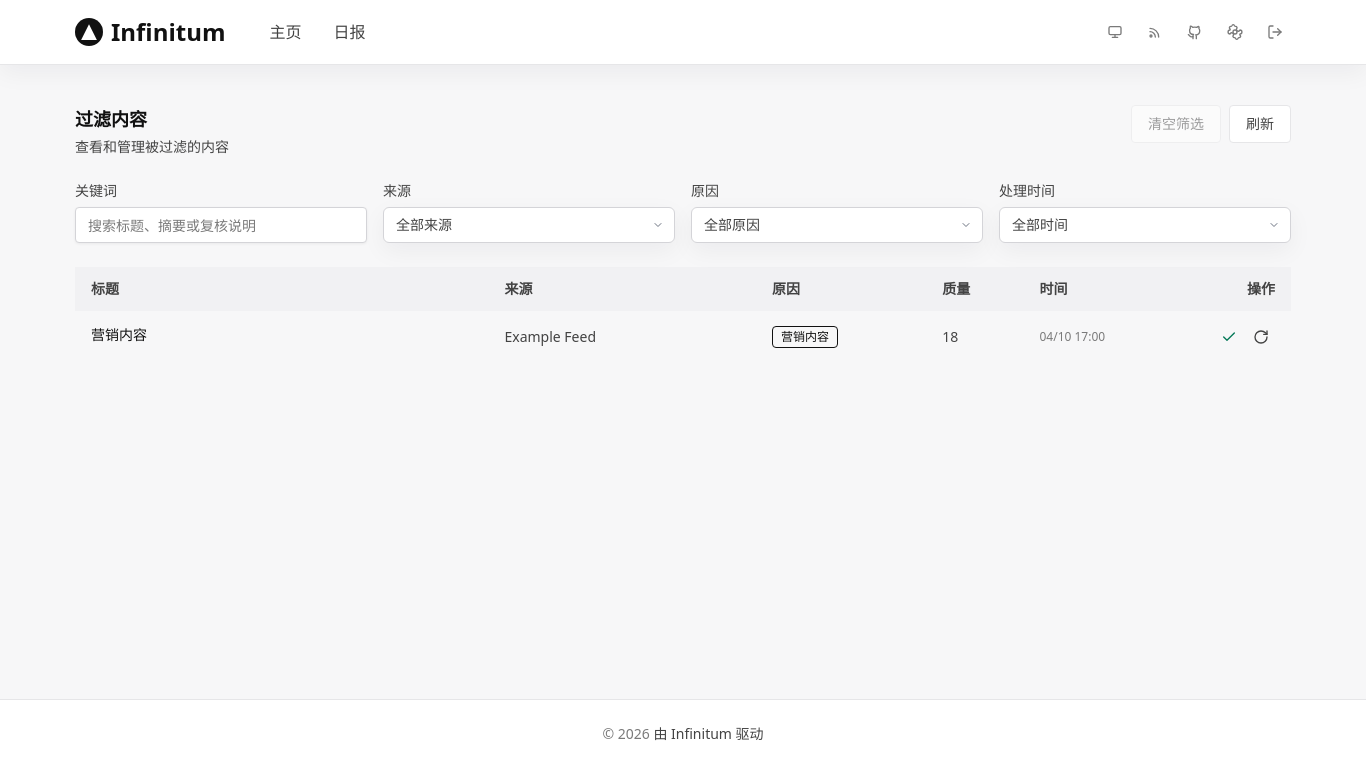
it: ContentReviewPanel › queues reanalyze as a background task
This screenshot has width=1366, height=768.
Check: the button "营销内容" is shown, box [91,324,472,344]
Click the button titled "重新 AI 判定" at {"x": 1261, "y": 337}, box [1247,323,1275,351]
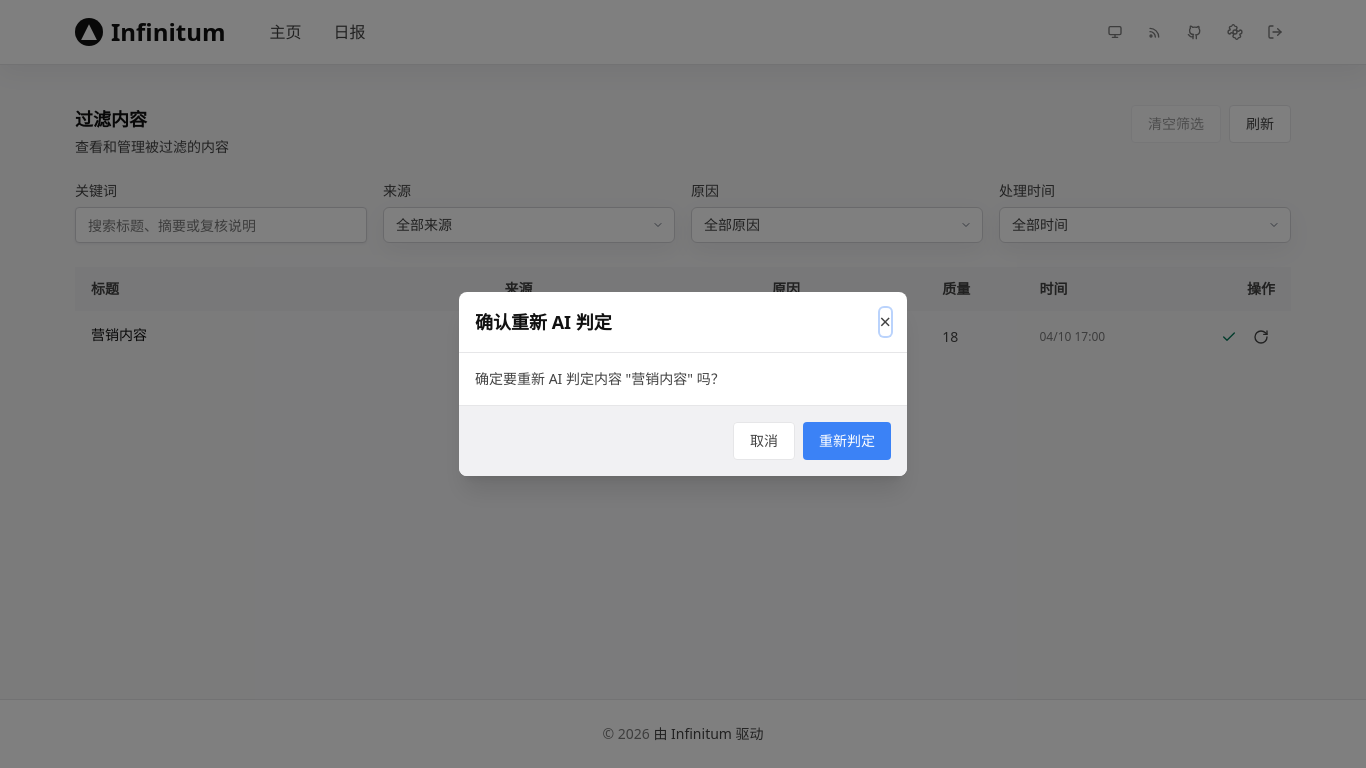
Check: the dialog "确认重新 AI 判定" is shown, box [459,292,907,476]
Click the button "重新判定" at {"x": 847, "y": 441}, box [803,422,891,460]
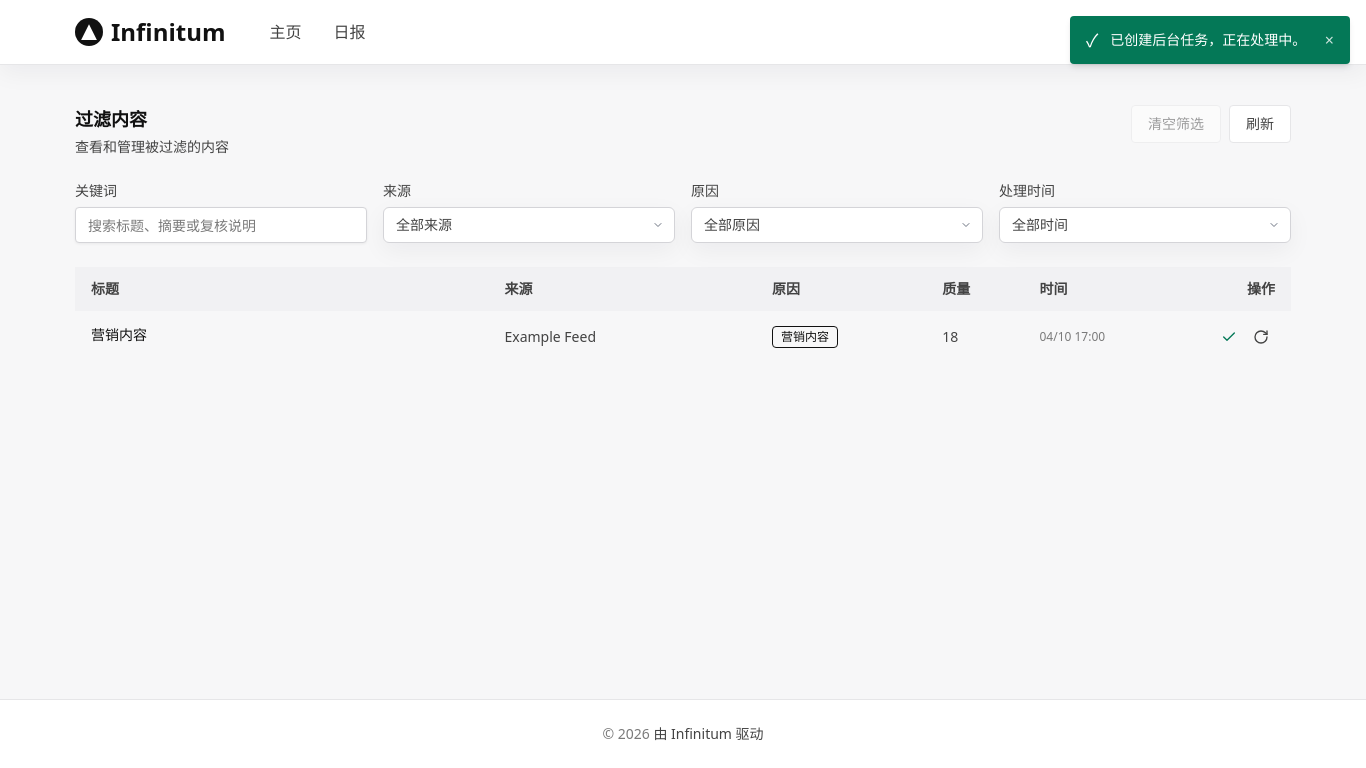
Check: the button "营销内容" is shown, box [91,324,472,344]
Check: the message shows "已创建后台任务，正在处理中。", box [1110,30,1306,49]
